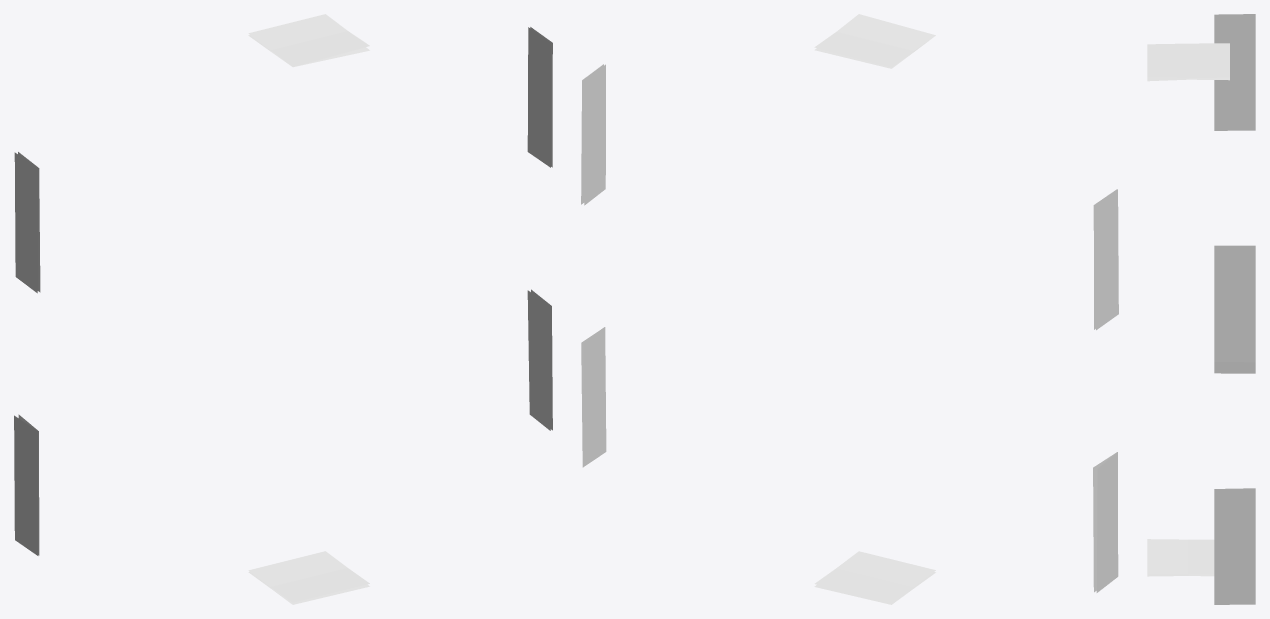
The model's file is GunShopGlass.glb.
3 renders of one model, left to right at view 1: azimuth 30°, elevation 25°; view 2: azimuth 150°, elevation 25°; view 3: azimuth 270°, elevation 25°, orthographic. The views are drawn at different scales.
Parts seen in each view (by area): view 1: GunShopGlass; view 2: GunShopGlass; view 3: GunShopGlass.
Boxes of the visible parts, x1=… form: GunShopGlass: x1=14, y1=14, x2=552, y2=604; GunShopGlass: x1=581, y1=14, x2=1118, y2=604; GunShopGlass: x1=1147, y1=14, x2=1255, y2=604.
Size of the model in its own units: 4.94 by 4.94 by 0.97.
Materials: 1 (1 with a texture image).
